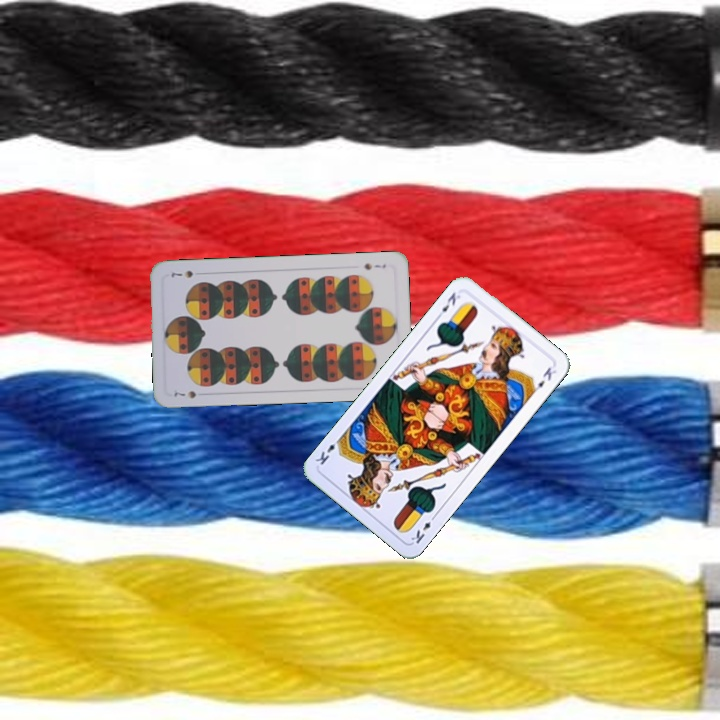EK: (407, 510, 439, 547), (433, 288, 463, 322)
S7: (170, 386, 199, 401), (360, 259, 388, 272)
